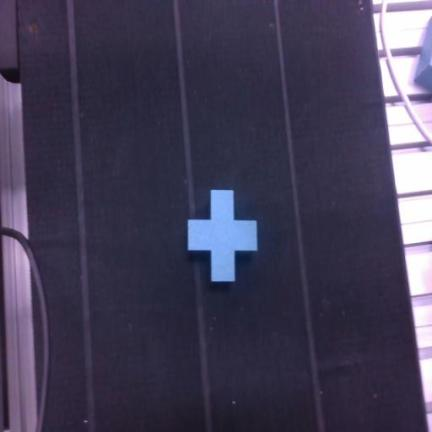cross: (189, 190, 257, 281)
